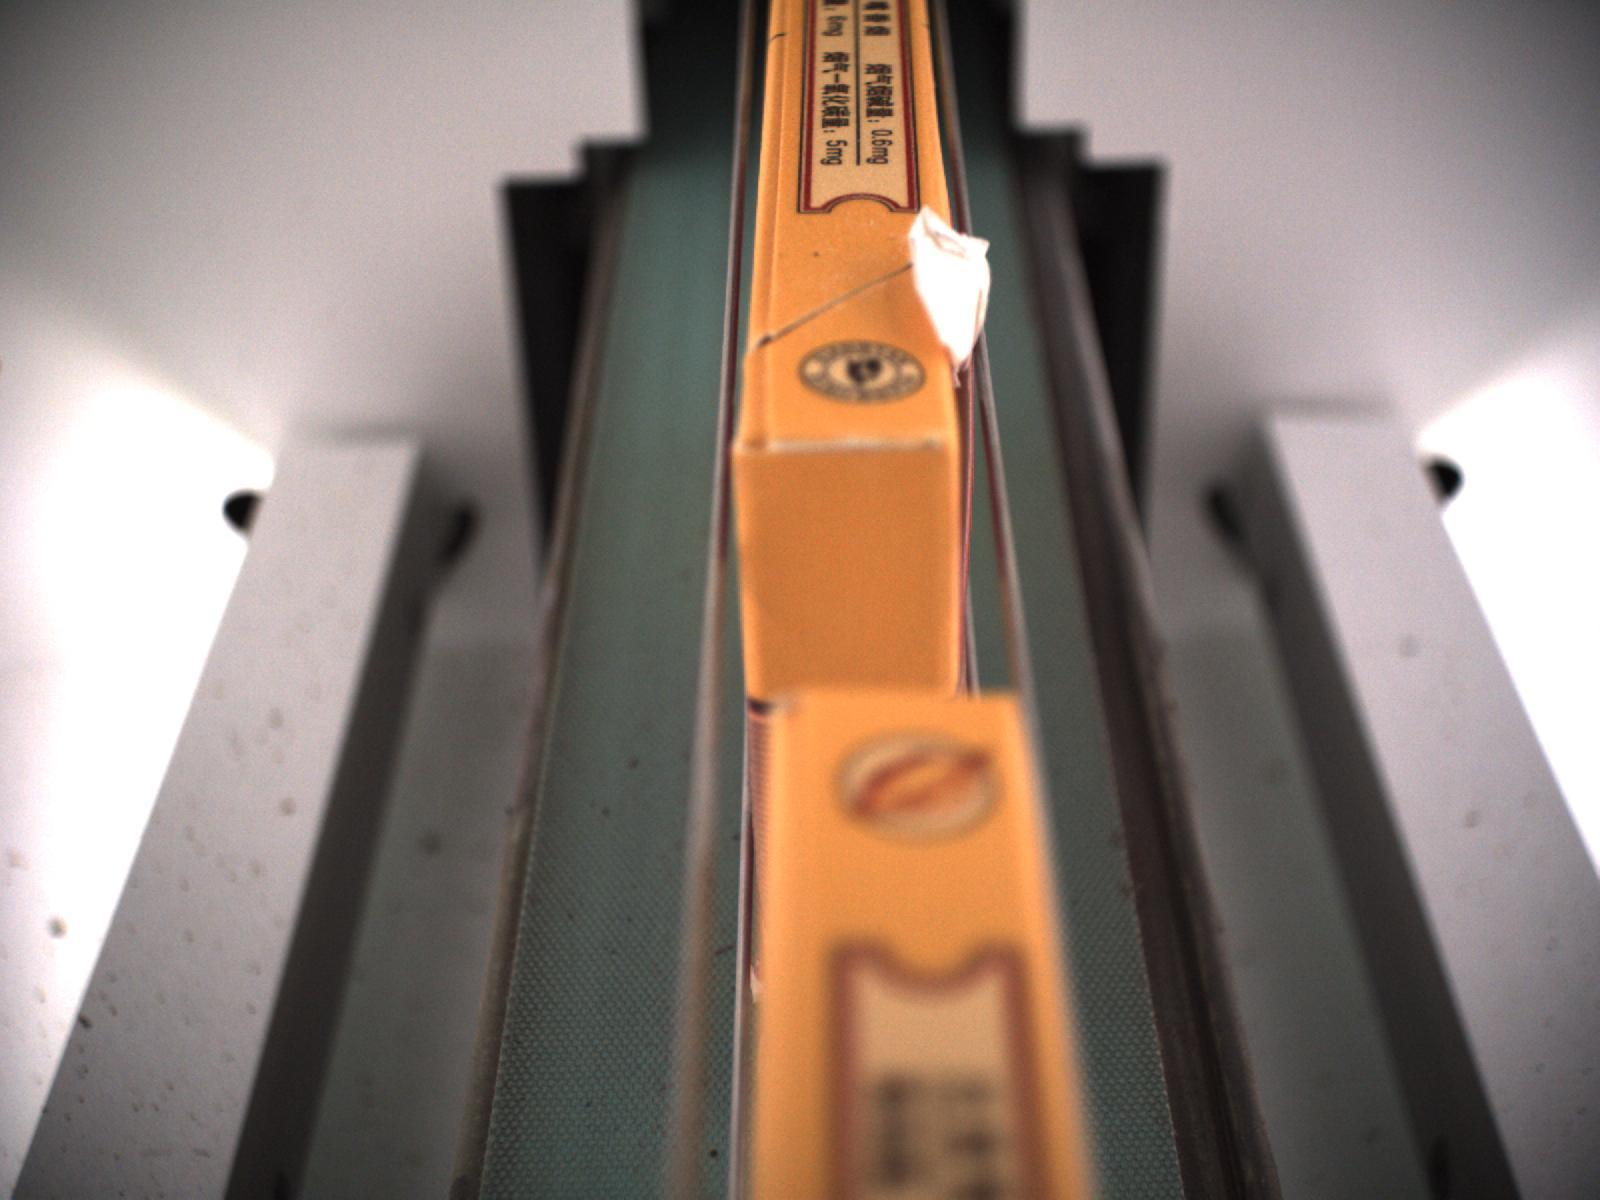dirtySpot: (811, 250, 823, 262)
frame: (902, 209, 995, 354)
skewed_upper_2: (750, 24, 809, 342)
